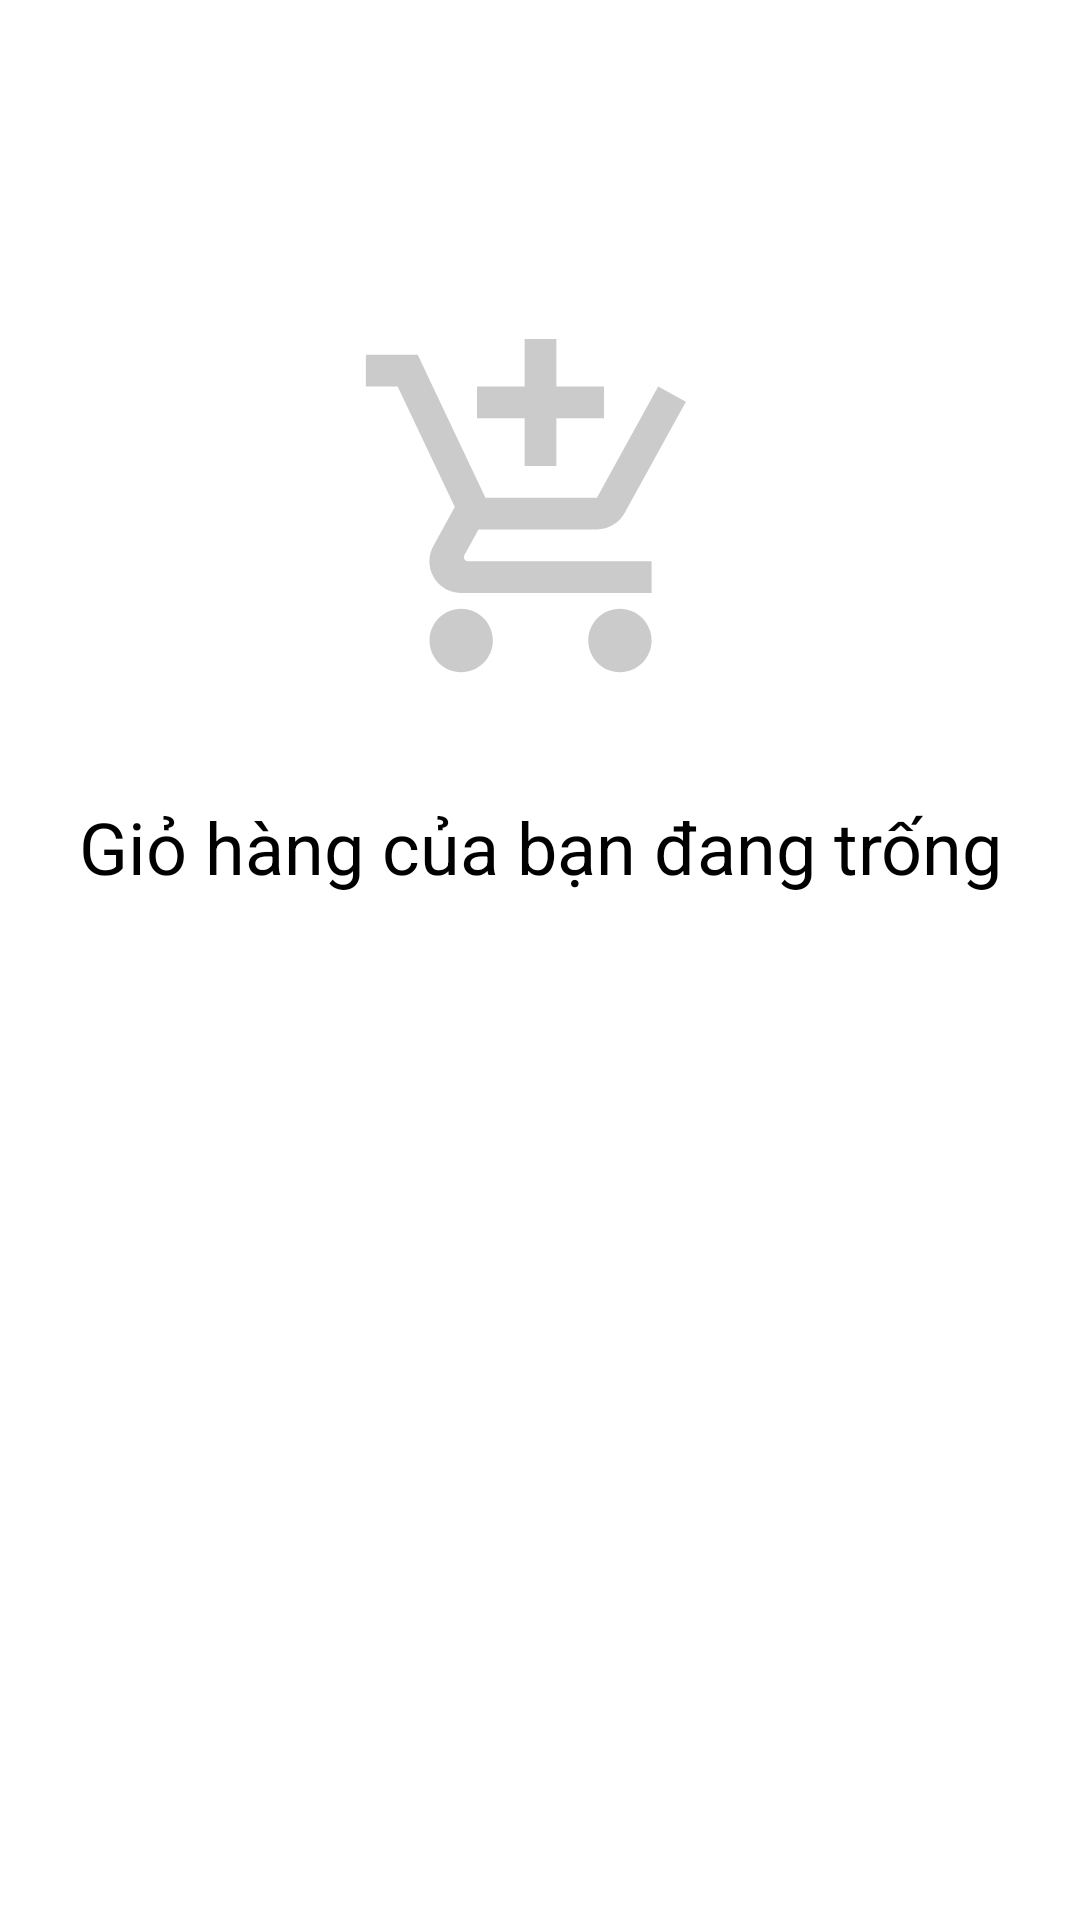

Where icons sit on this 1080w x 1920h app screen, as [x1,y1,x2,y2]:
empty cart: [366,339,686,672]
